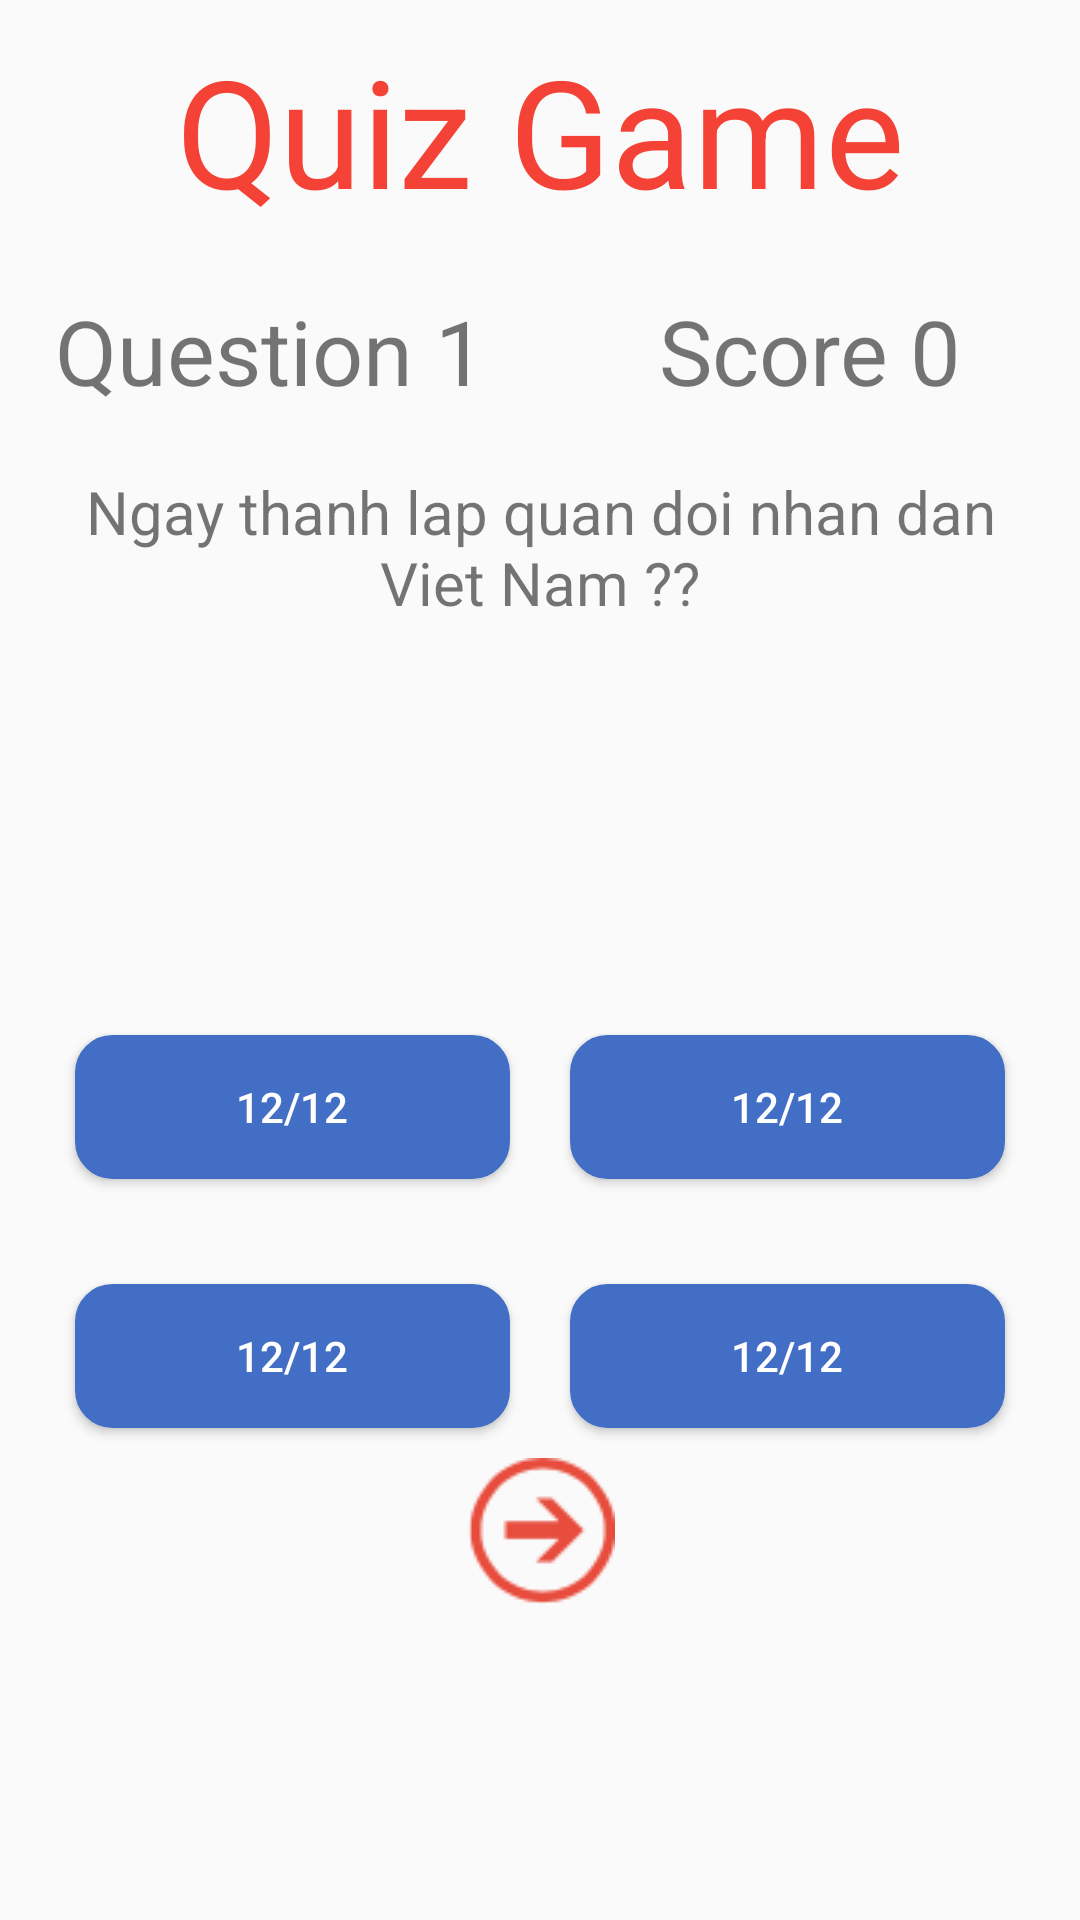

Screen size 1080px×1920px. Icon name, then its center in pixels as point (x, y):
next: point (542, 1530)
